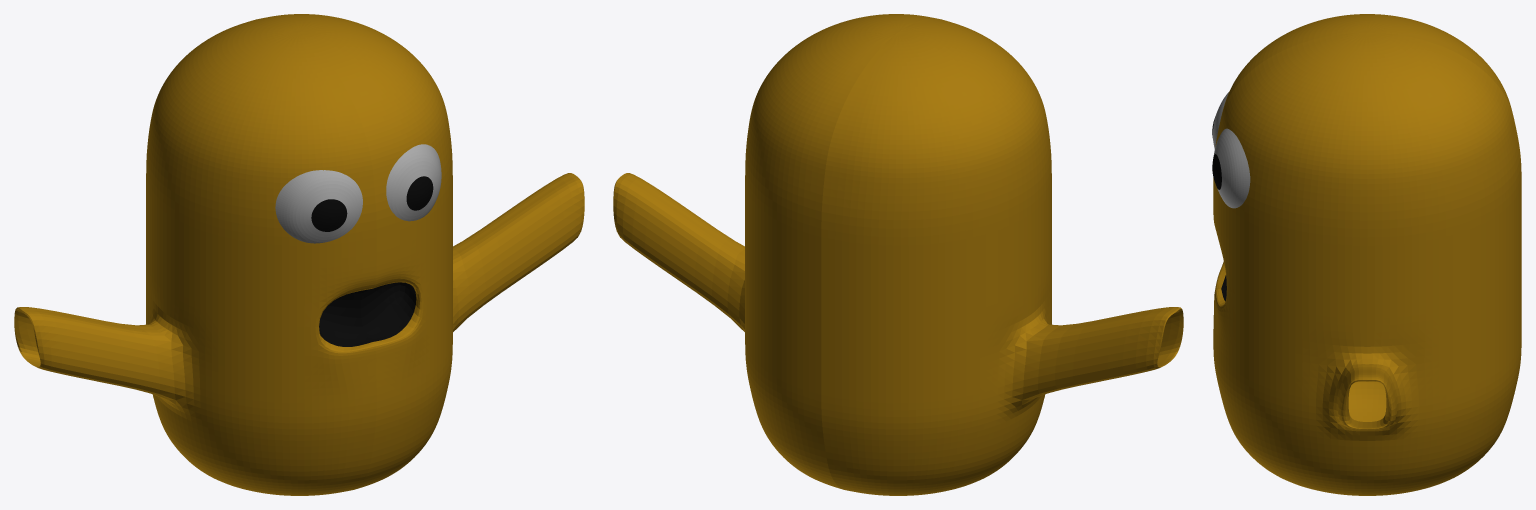
Rendered from dave-the-minion.obj.
3 renders of one model, left to right at view 1: azimuth 30°, elevation 25°; view 2: azimuth 150°, elevation 25°; view 3: azimuth 270°, elevation 25°, orthographic.
Visible parts, largest first — view 1: Body_Sphere, eyes_Sphere.005; view 2: Body_Sphere; view 3: Body_Sphere, eyes_Sphere.005.
Part boxes in pixels (box(x1,y1,x2,y2)): Body_Sphere: box(14, 14, 584, 495); eyes_Sphere.005: box(275, 144, 441, 243); Body_Sphere: box(613, 14, 1183, 495); Body_Sphere: box(1213, 14, 1521, 495); eyes_Sphere.005: box(1212, 92, 1250, 208).
Size of the model in its own units: 4.14 by 3.11 by 2.
